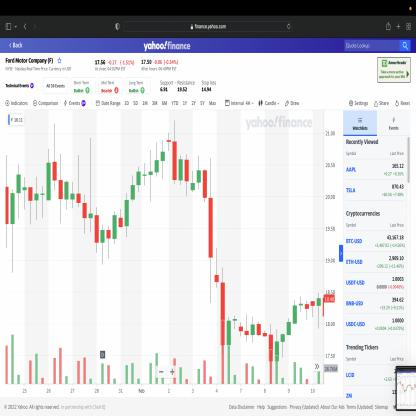Bearish: Tweezer Top: (178, 152, 190, 198)
Bullish: 3 White Soldiers: (124, 163, 141, 239)
